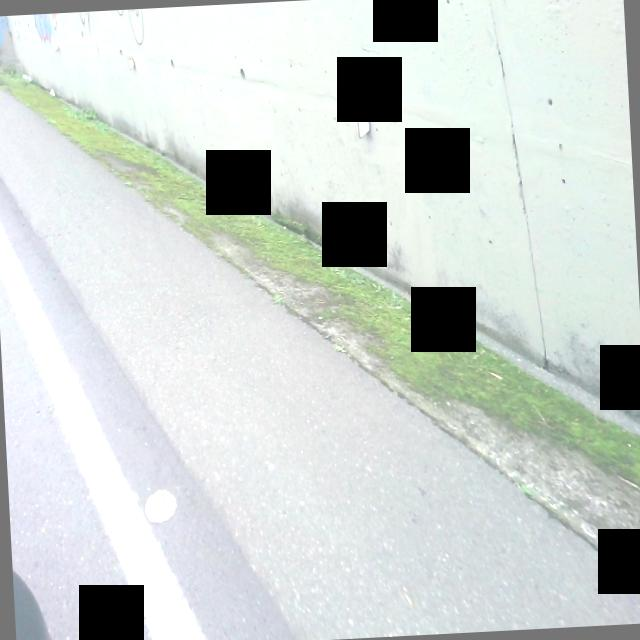DITCH: (0, 0, 640, 640), (0, 3, 640, 640), (0, 31, 640, 640)
